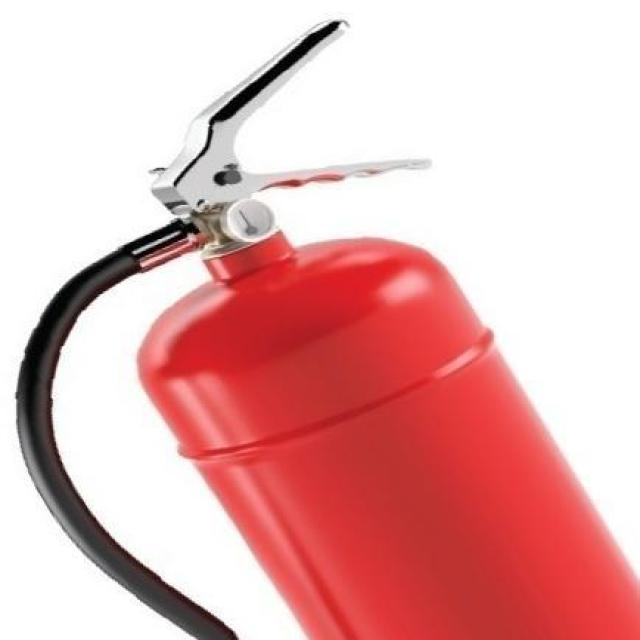fire_extinguisher: (7, 12, 638, 638)
